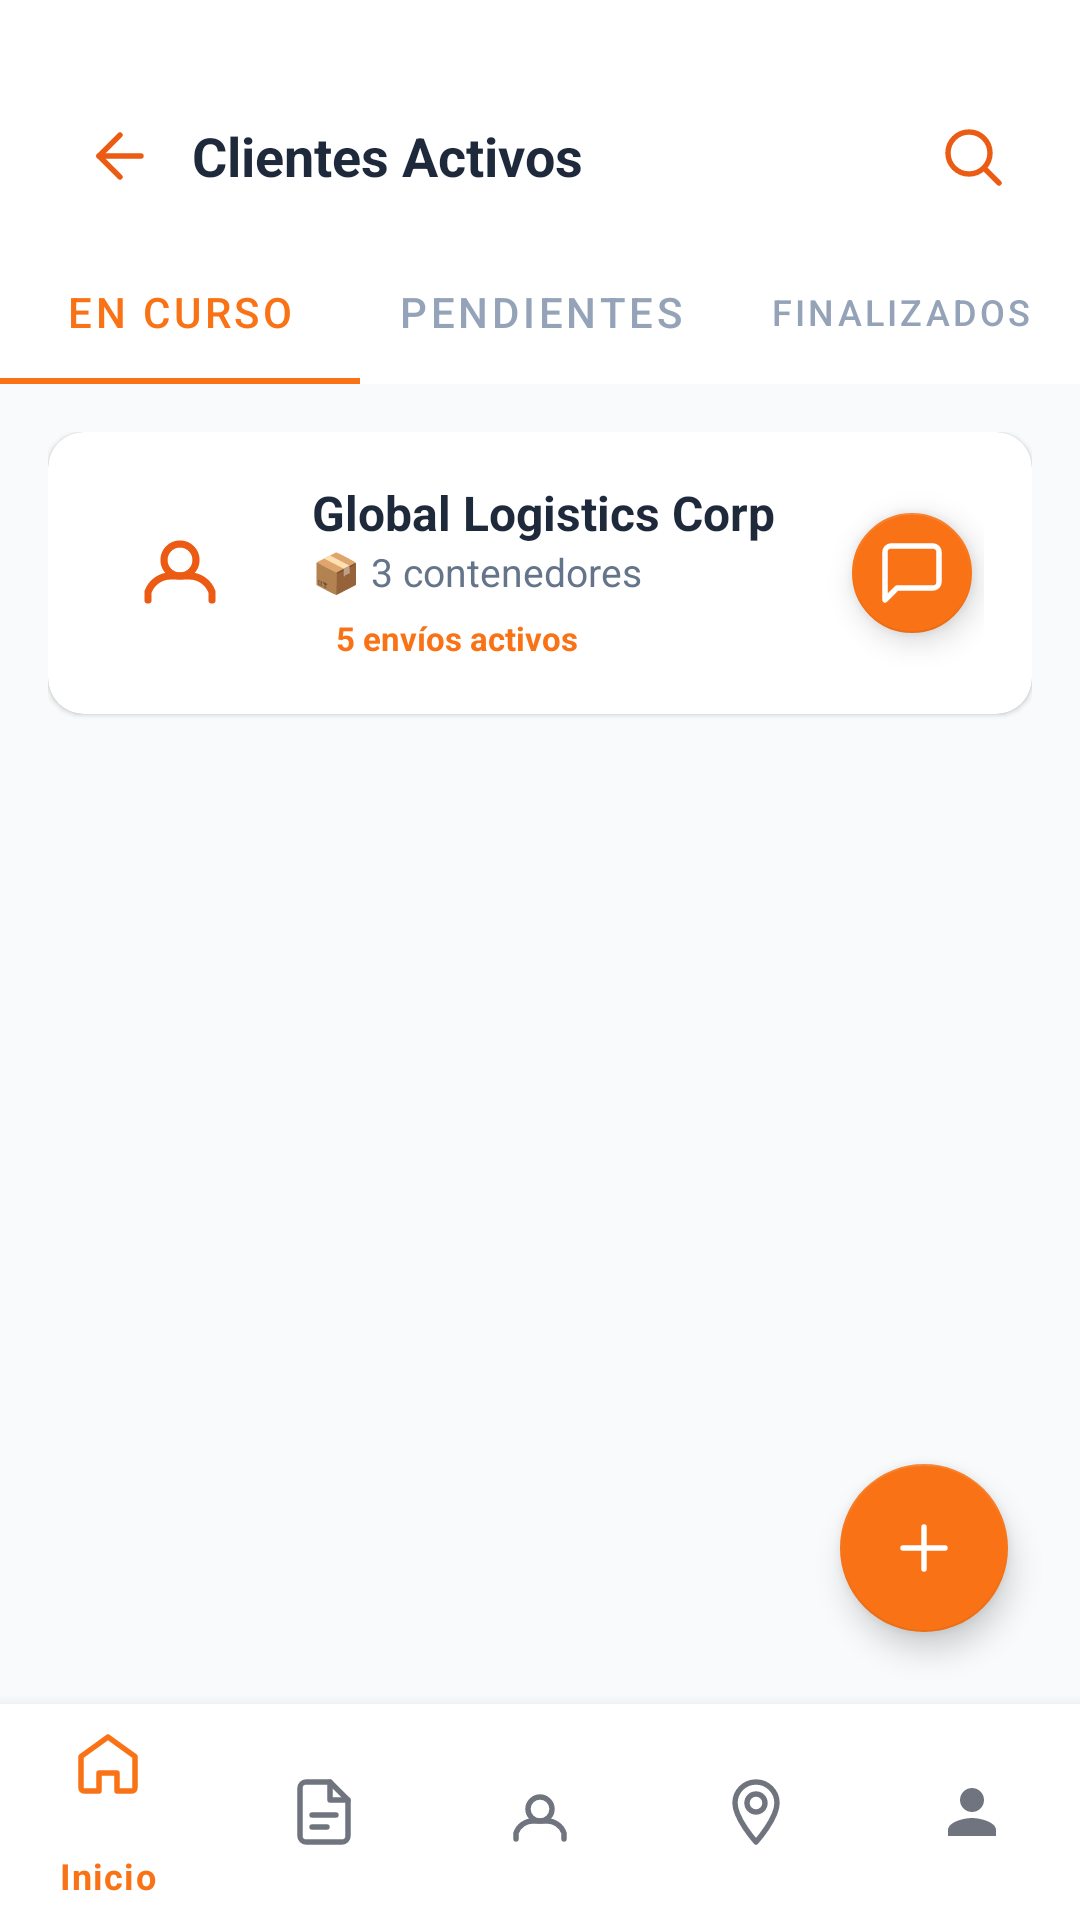

Named icons in this screenshot (1080×1920) and their bounding boxes, (x1, y1, x2, y2):
arrow back: (96, 132, 144, 180)
chat: (852, 513, 974, 637)
search: (945, 129, 1002, 186)
